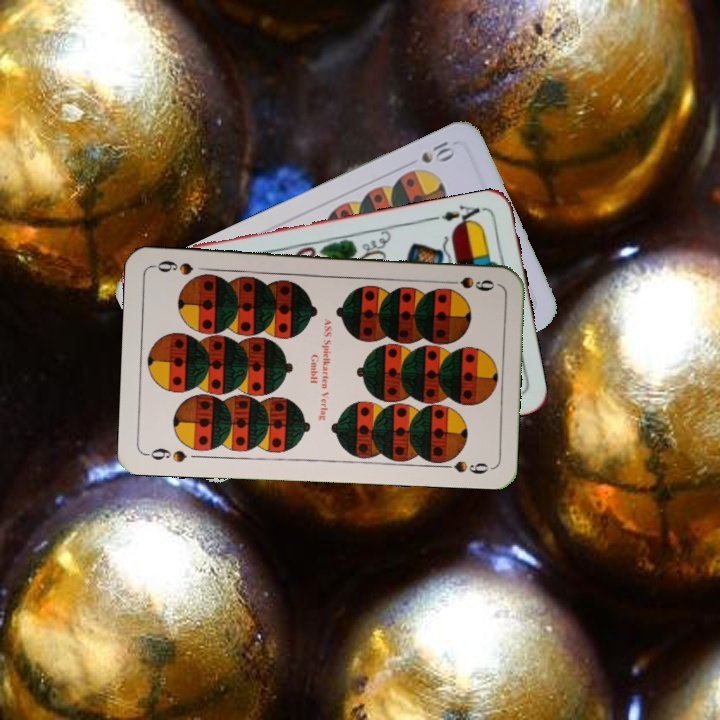EA: (437, 201, 483, 230)
S10: (417, 137, 459, 166)
S9: (439, 272, 497, 293), (142, 444, 189, 465)
